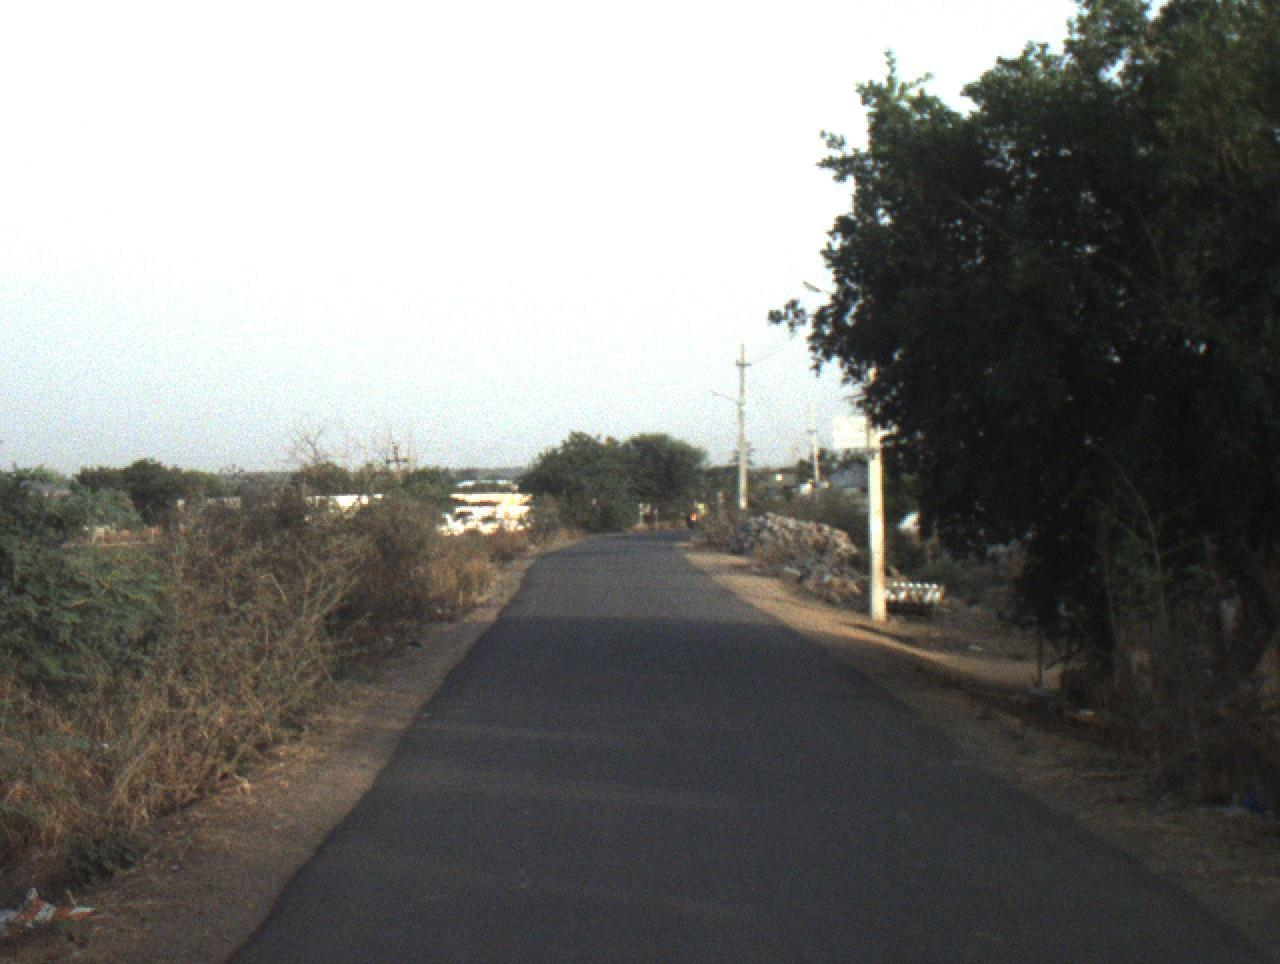off: (0, 11, 1280, 964)
